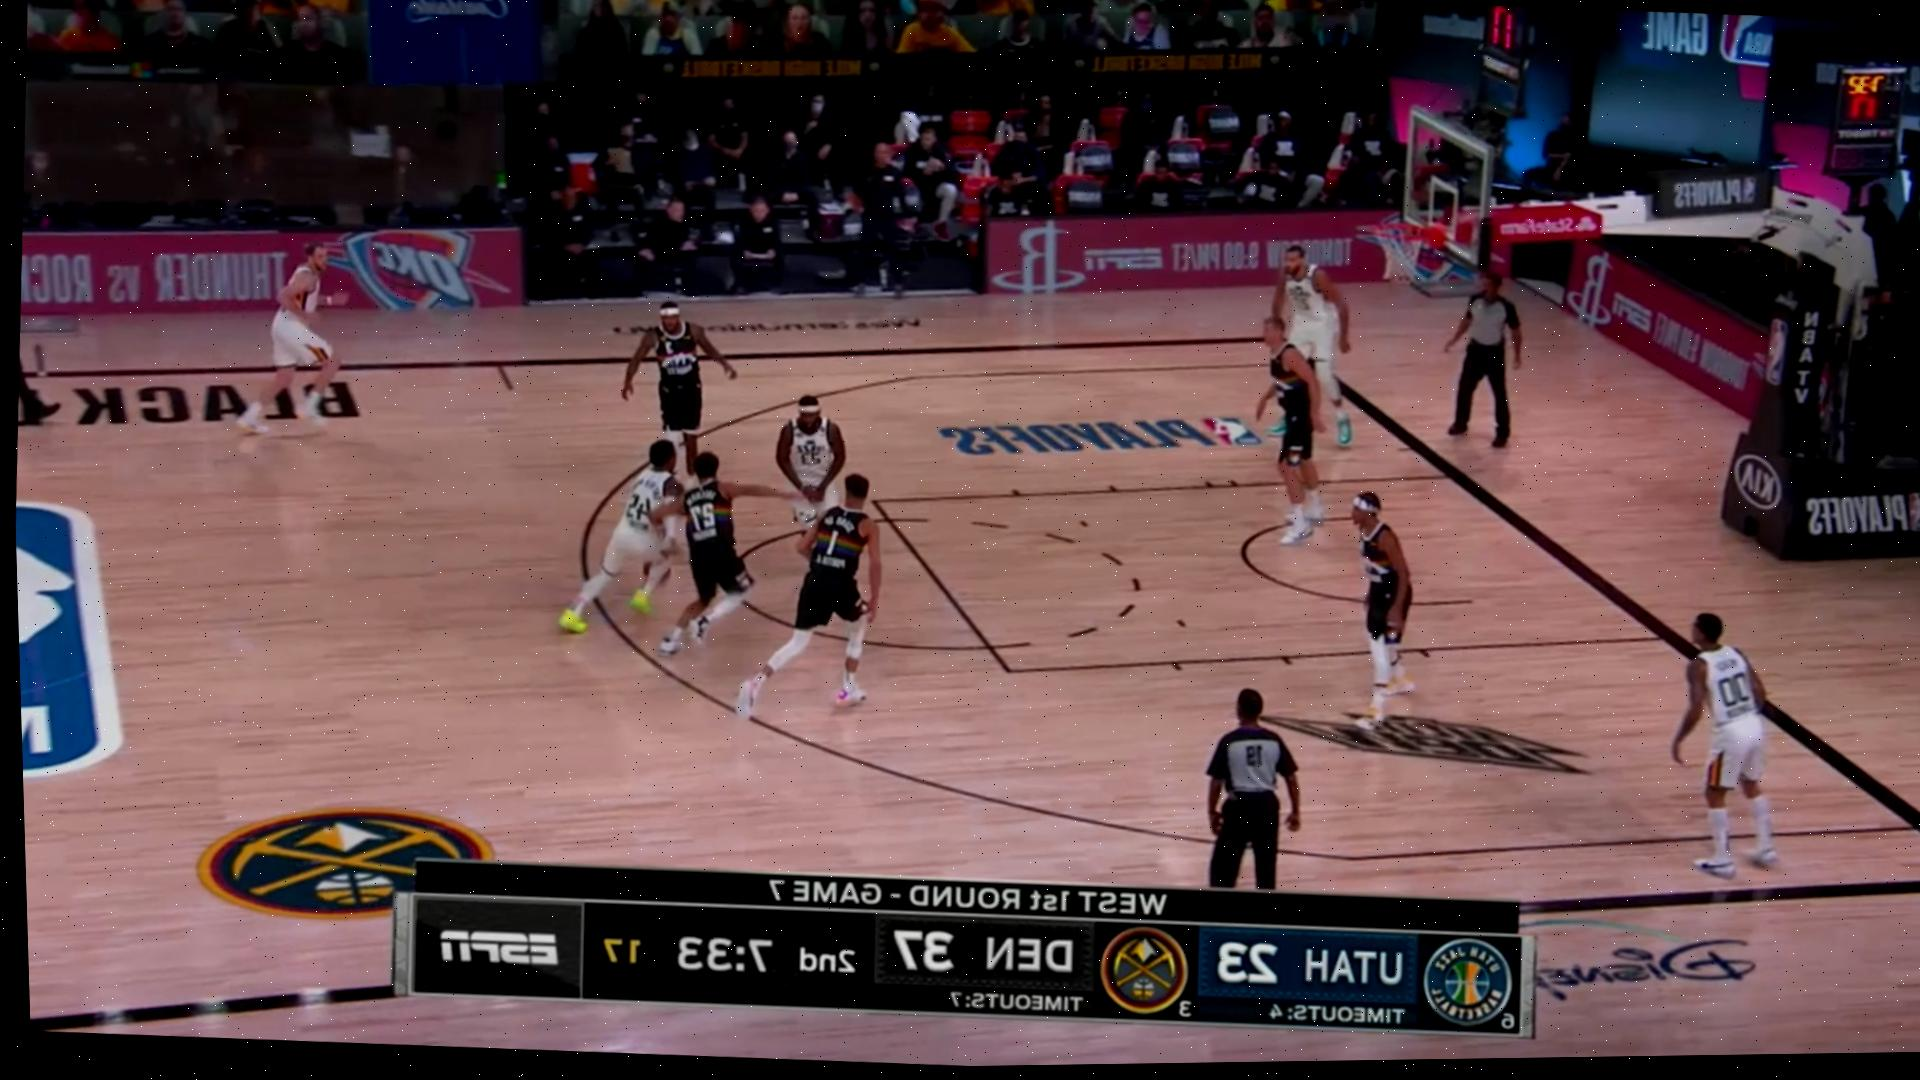no_foul: (568, 426, 740, 661)
